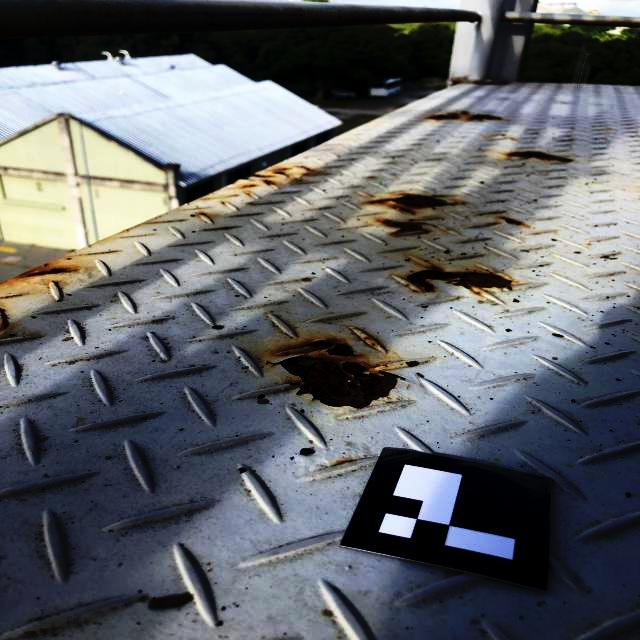Corrosion: (277, 339, 399, 408), (407, 270, 513, 292), (366, 193, 453, 214), (377, 218, 429, 236), (427, 110, 504, 121), (506, 151, 574, 161), (24, 267, 66, 278), (503, 216, 525, 226), (272, 167, 289, 177), (241, 173, 269, 179), (262, 180, 274, 187)
